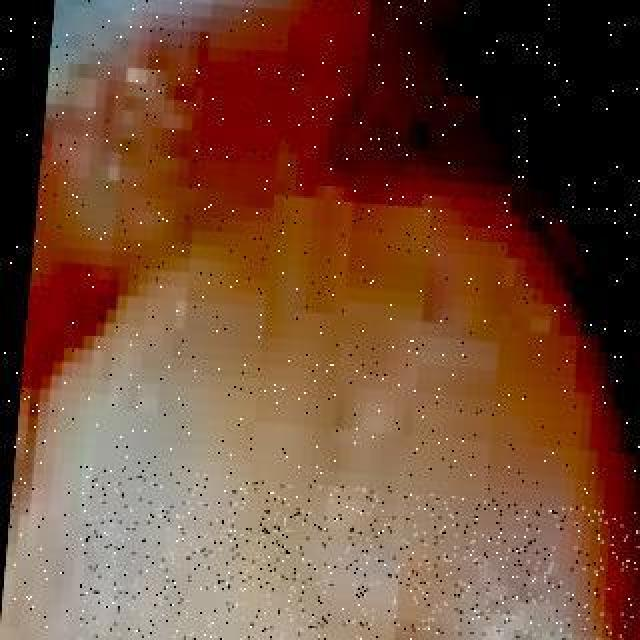cavities: (22, 618, 504, 640)
